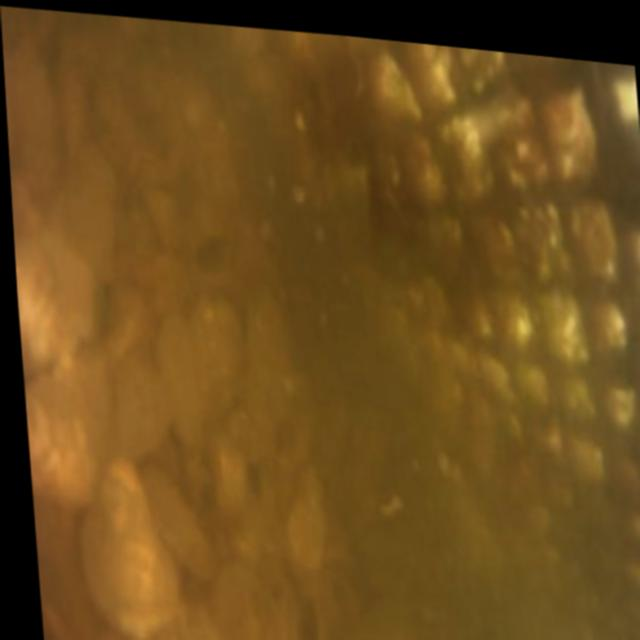Oyster-Indeterminate: (79, 458, 183, 640), (25, 362, 115, 497), (15, 220, 92, 376), (164, 306, 235, 447), (115, 347, 167, 465), (61, 168, 107, 287), (292, 488, 322, 553)
Oyster-Open: (279, 590, 331, 640)
